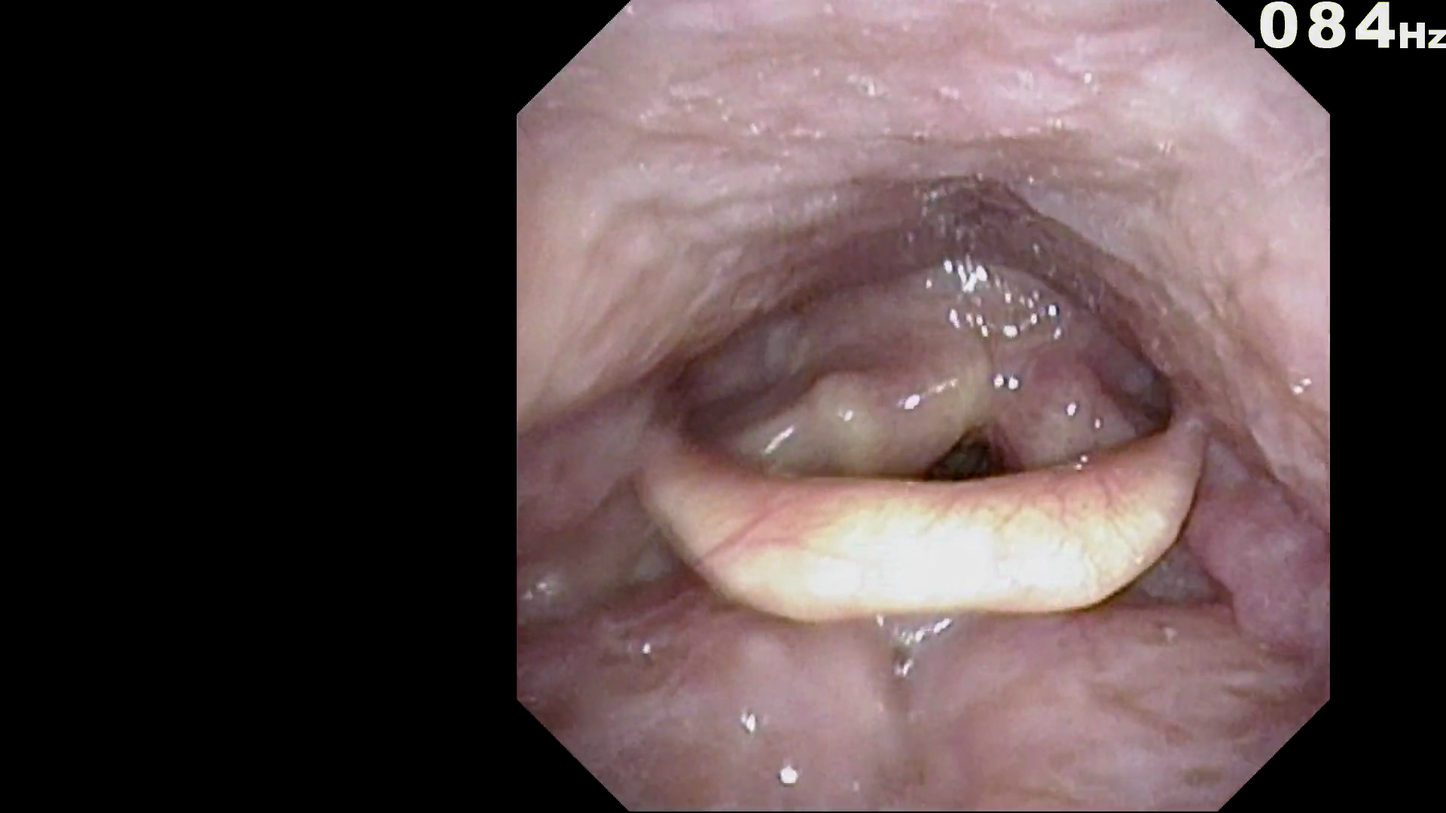epiglottis: (626, 349, 1223, 644)
trachea: (937, 404, 1022, 495)
